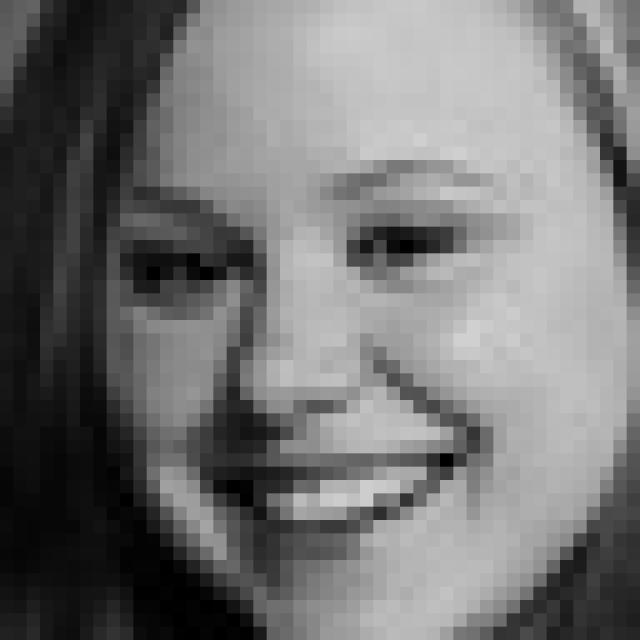happy: (116, 153, 535, 572)
